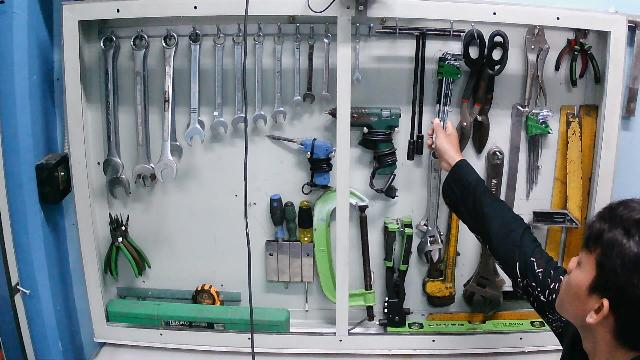kunci_l: (431, 47, 467, 153)
